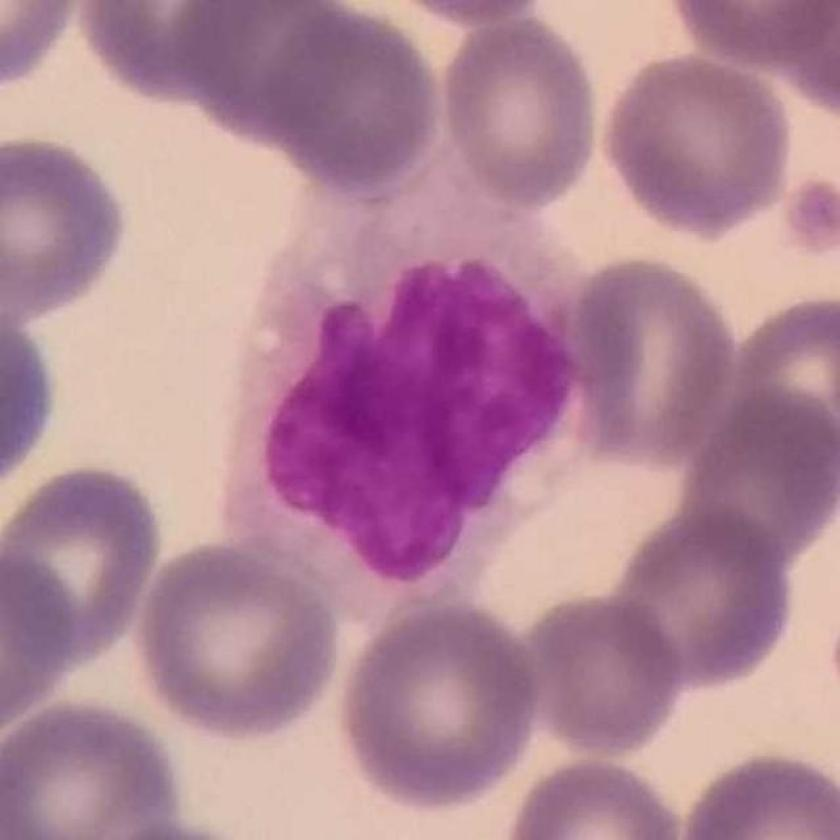monocyte: (227, 159, 606, 627)
